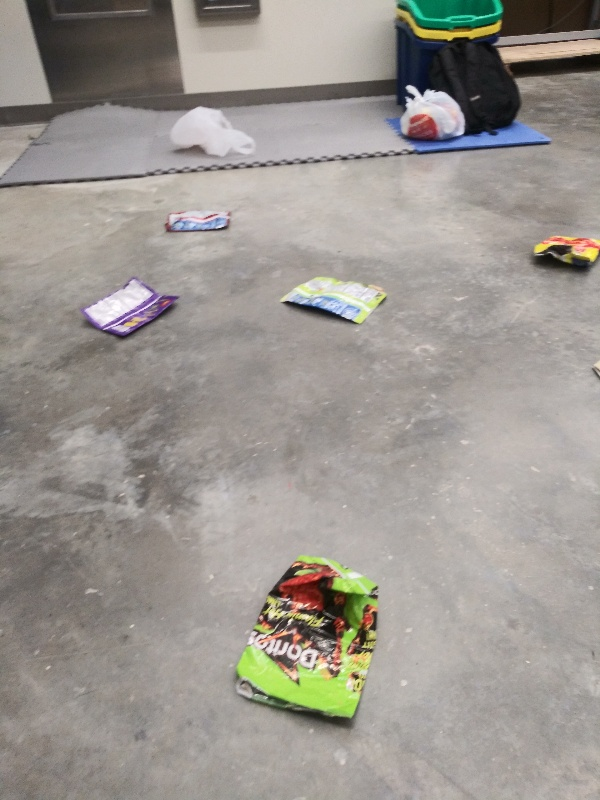bag: (230, 548, 391, 731), (81, 272, 183, 345), (278, 270, 392, 330), (529, 230, 600, 270), (163, 204, 235, 232)
